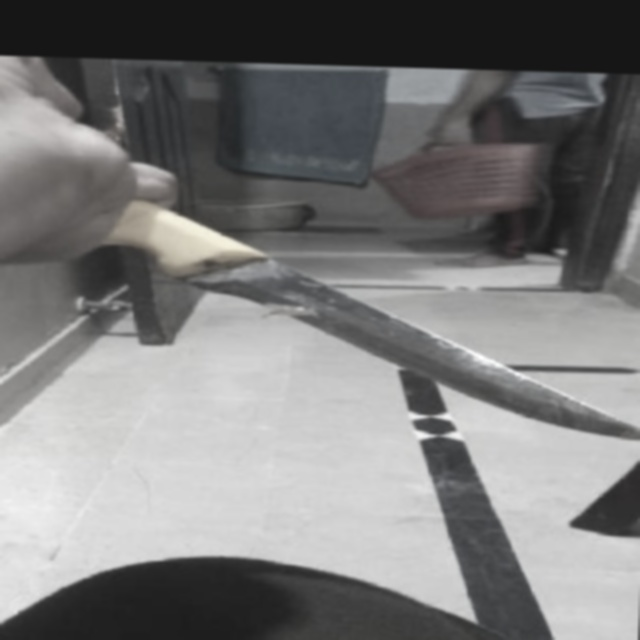Sharp-Object: (90, 198, 640, 440)
